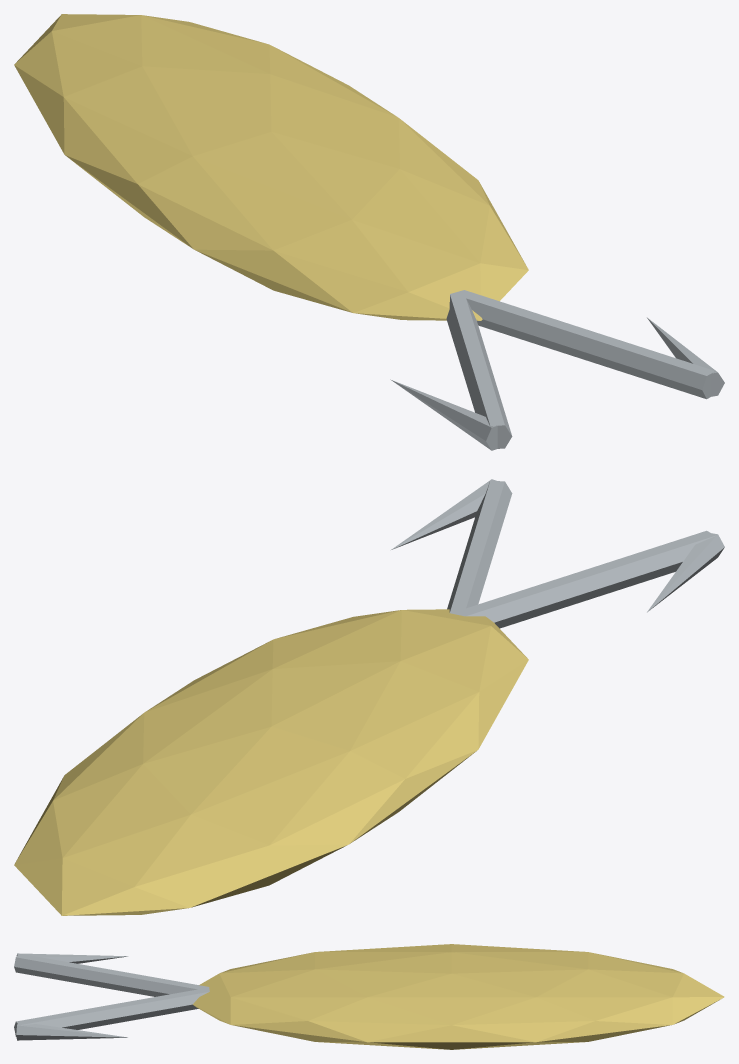
The model's file is StandardLure.fbx.
3 views of the same model, one above another, from view 1: azimuth 30°, elevation 25°; view 2: azimuth 150°, elevation 25°; view 3: azimuth 270°, elevation 25° (orthographic). The views are drawn at different scales.
Visible parts, largest first — view 1: Spoon, HookStem-1, HookStem1, HookTip1, HookTip-1; view 2: Spoon, HookStem1, HookStem-1, HookTip1, HookTip-1; view 3: Spoon, HookStem1, HookStem-1, HookTip-1, HookTip1.
Boxes of the visible parts, x1=… form: Spoon: x1=14, y1=14, x2=528, y2=320; HookStem-1: x1=452, y1=290, x2=715, y2=399; HookStem1: x1=446, y1=291, x2=512, y2=448; HookTip1: x1=390, y1=379, x2=497, y2=450; HookTip-1: x1=647, y1=317, x2=724, y2=396; Spoon: x1=14, y1=609, x2=528, y2=915; HookStem1: x1=454, y1=530, x2=715, y2=628; HookStem-1: x1=447, y1=480, x2=512, y2=615; HookTip1: x1=647, y1=533, x2=724, y2=612; HookTip-1: x1=390, y1=479, x2=496, y2=550; Spoon: x1=193, y1=944, x2=724, y2=1049; HookStem1: x1=14, y1=953, x2=209, y2=996; HookStem-1: x1=14, y1=987, x2=209, y2=1036; HookTip-1: x1=16, y1=1024, x2=127, y2=1040; HookTip1: x1=16, y1=953, x2=127, y2=963.
Size of the model in its own units: 0.0666 by 0.016 by 0.2212.
